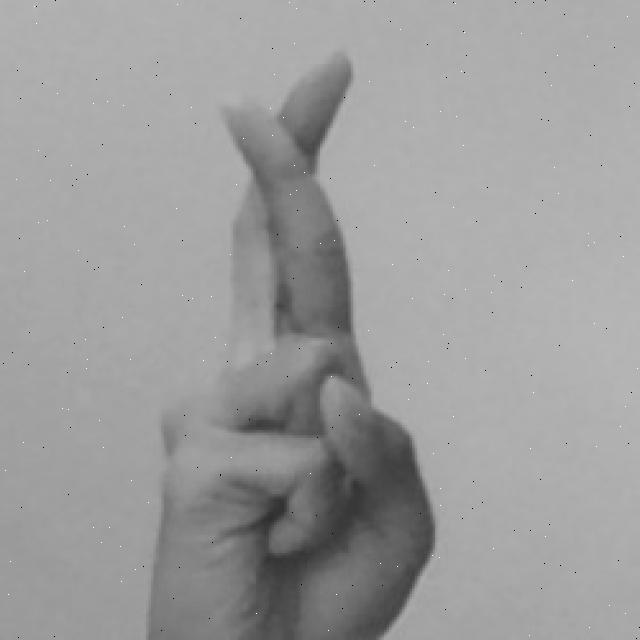R: (138, 46, 439, 640)
